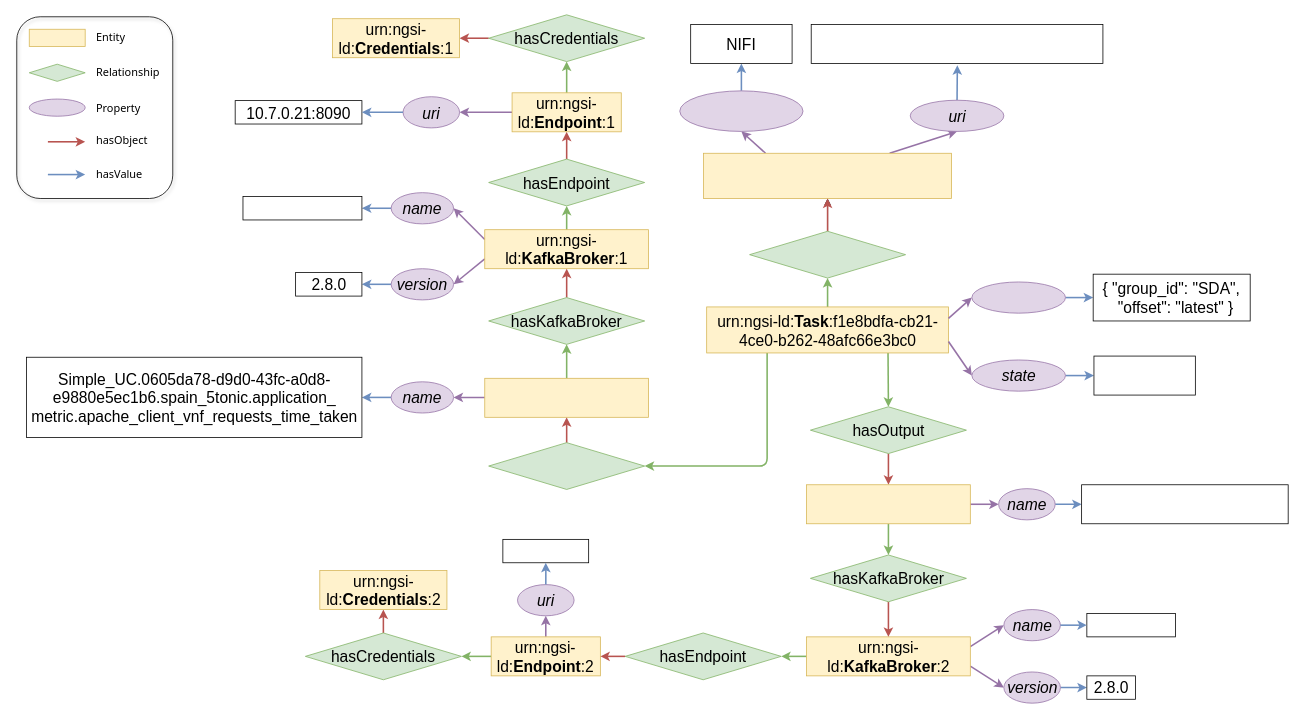
The diagram is 1302 pixels wide and 717 high, and some of its shapes have lost their labels. Each missing label, with the centre of its shape:
applicationType: point 741,110
arguments: point 1018,297
evesource-38122a15-c346-46a5-8c1e-82d8971fd13c: point 1184,504
hasApplication: point 827,254
hasInput: point 566,465
https://app-manager:8080/catalog/ nifi/templates/EVESource.xml: point 956,44
kafka-5GEVE: point 302,208
kafka-SDA: point 1130,625
kafka:9092: point 545,551
RUNNING: point 1144,375
urn:ngsi-ld: Application :59e74c0b-99e8-449b-bcef-73c7fe061808: point 827,175
urn:ngsi-ld: KafkaTopic :1: point 566,397
urn:ngsi-ld: KafkaTopic :2: point 888,504
